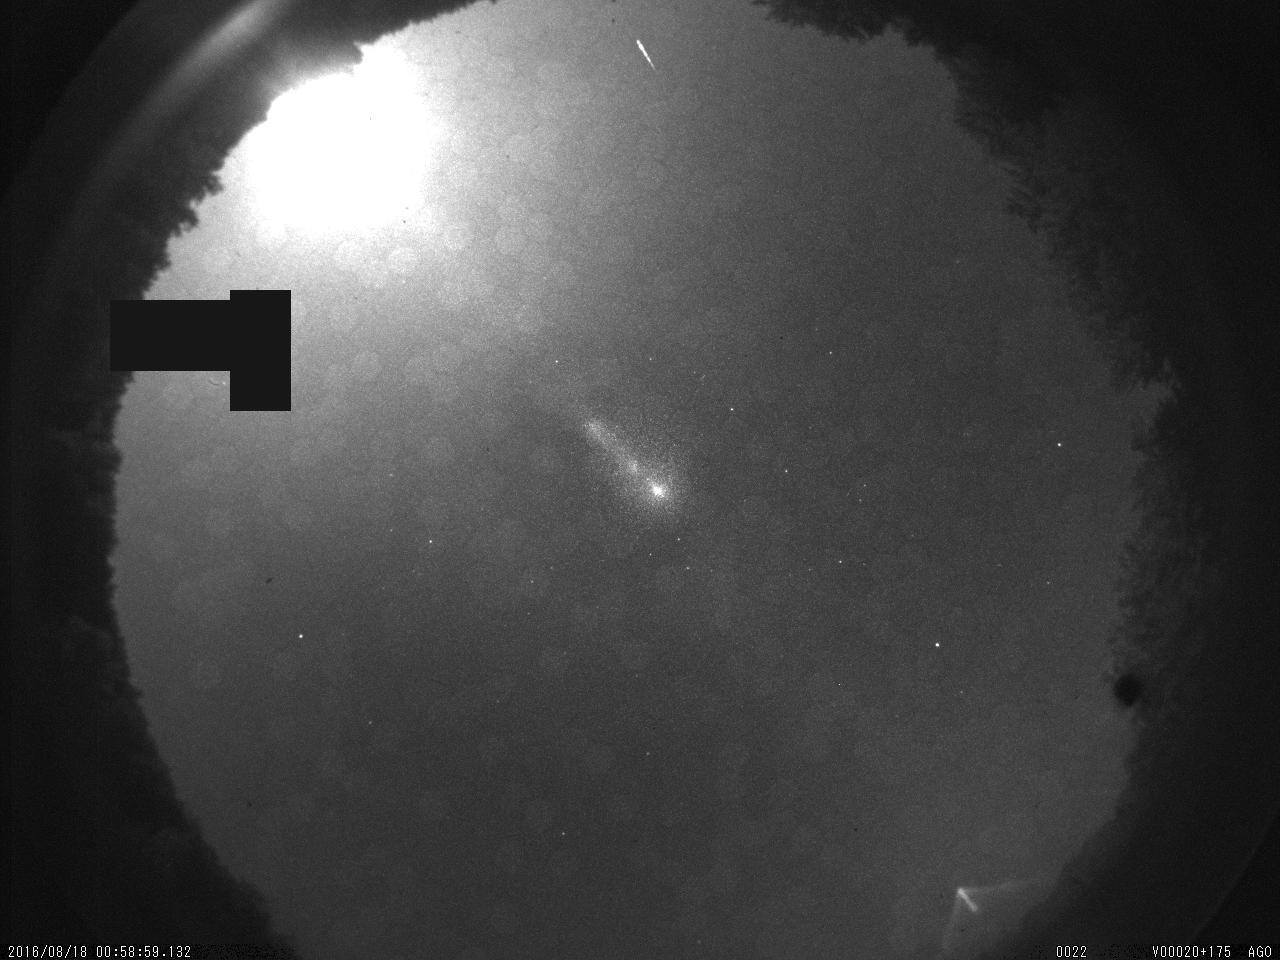meteor: (615, 38, 682, 96)
